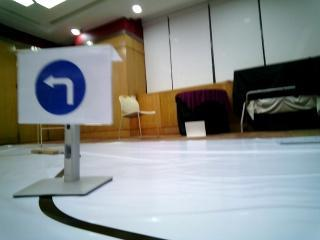left: (16, 54, 104, 124)
